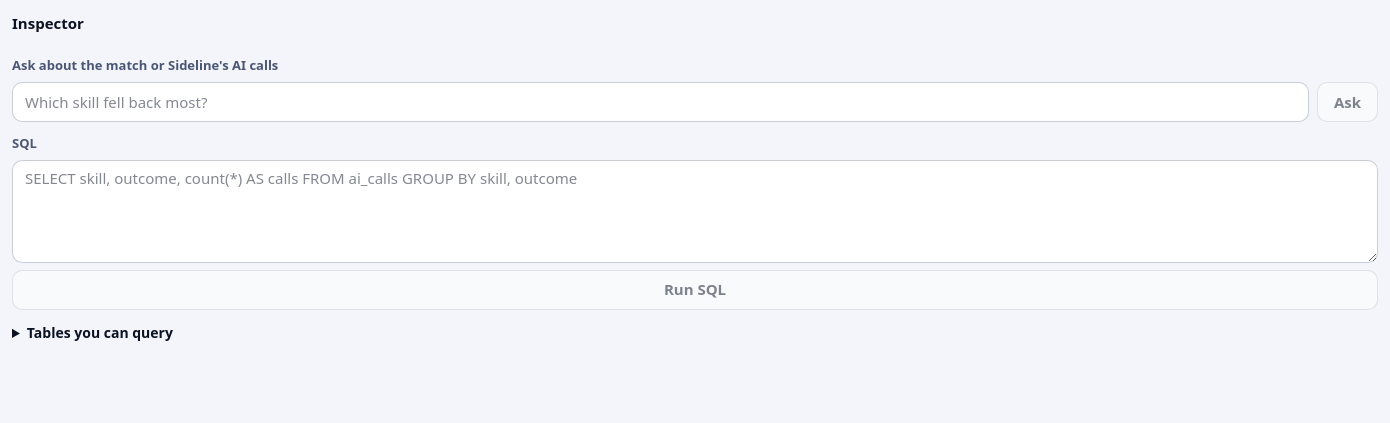
InspectorQuery (PLAN 9.2) › says what happened on error
This screenshot has width=1390, height=423.
Type "x" into the field labelled "Ask about the match or Sideline's AI calls" at (660, 102), box [12, 82, 1309, 122]
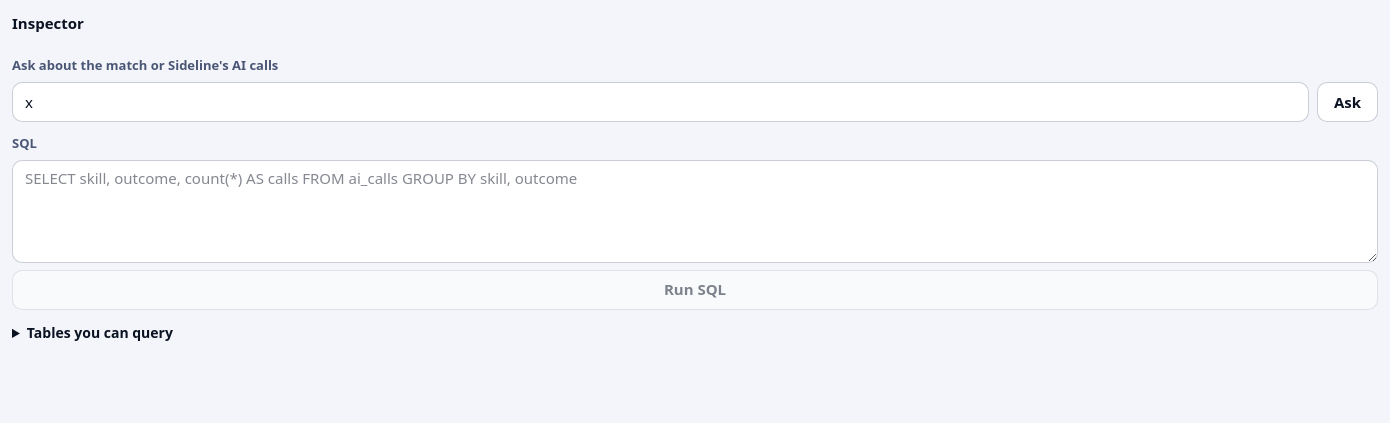
Click the button "Ask" at (1347, 102), box [1317, 82, 1378, 122]
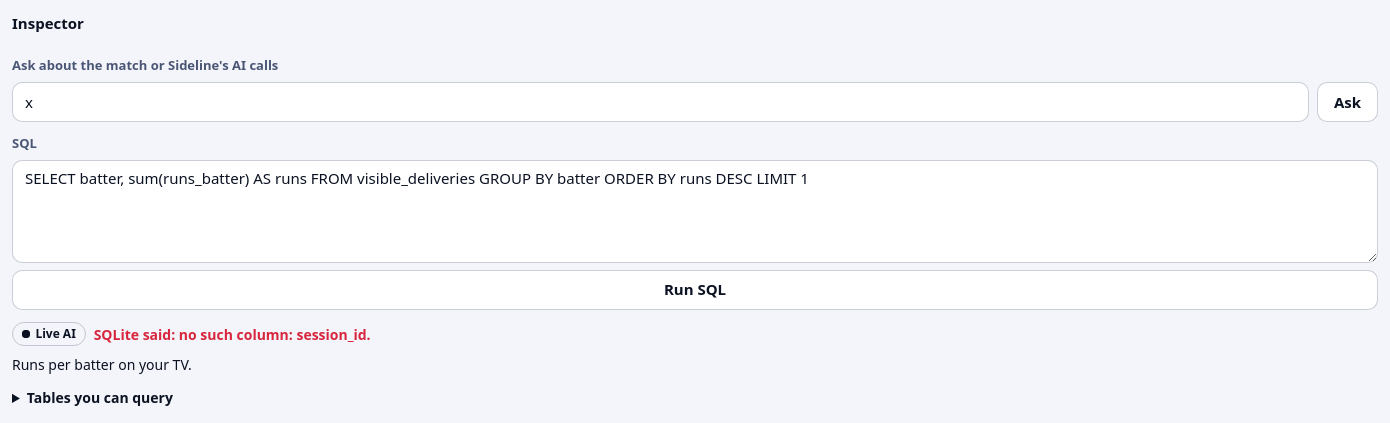
Check: the text "SQLite said: no such column: session_id." is shown, box [94, 324, 371, 344]
